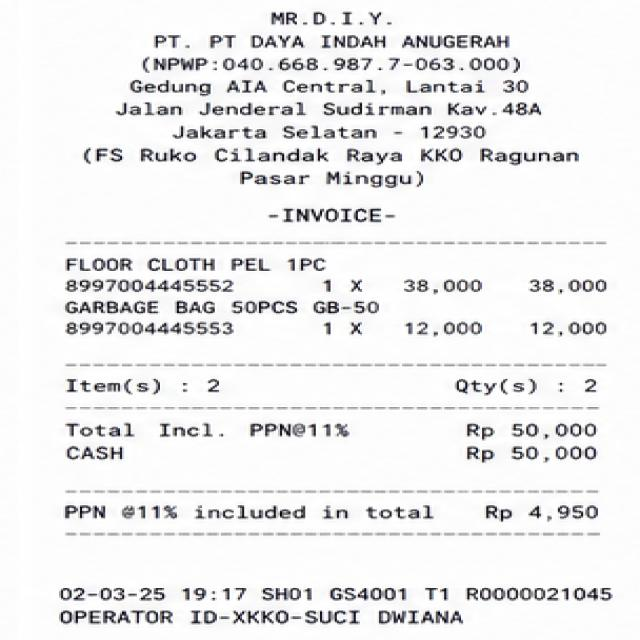date: (53, 584, 249, 607)
store: (255, 0, 402, 30)
total: (46, 415, 614, 443)
